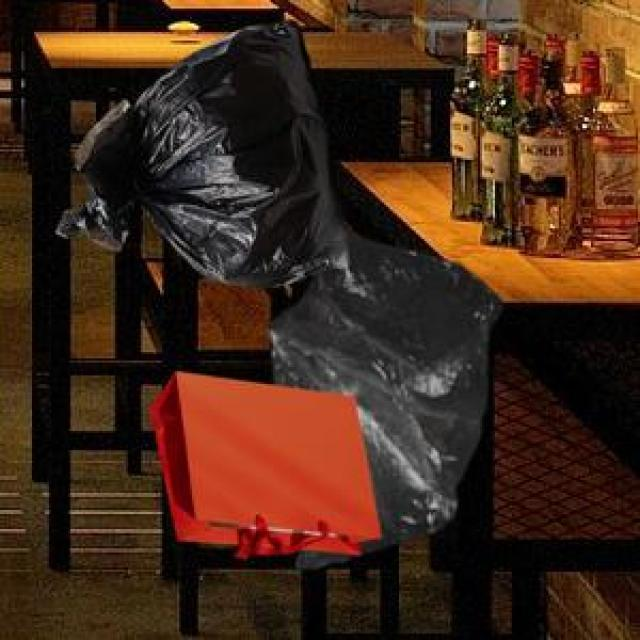miscellaneous trash: (53, 17, 344, 284)
paper: (147, 367, 378, 555)
